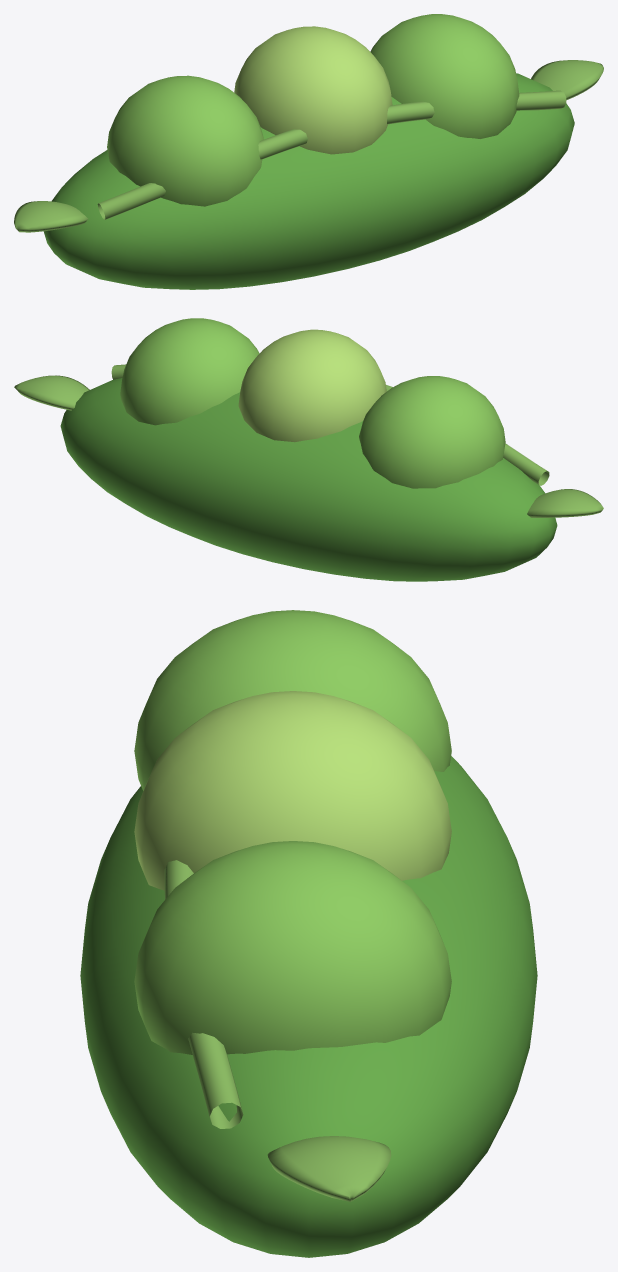
File: peas.glb
3 renders of one model, top to bottom at view 1: azimuth 30°, elevation 25°; view 2: azimuth 150°, elevation 25°; view 3: azimuth 270°, elevation 25°, orthographic. The views are drawn at different scales.
Parts seen in each view (by area): view 1: Pea pod | curved shell.001, Pea | round pea.005, Pea | round pea.004, Pea | round pea.003, Pea pod | seam.001, Pea pod | tip leaf.003, Pea pod | tip leaf.002; view 2: Pea pod | curved shell.001, Pea | round pea.005, Pea | round pea.004, Pea | round pea.003, Pea pod | tip leaf.003, Pea pod | tip leaf.002, Pea pod | seam.001; view 3: Pea pod | curved shell.001, Pea | round pea.003, Pea | round pea.004, Pea | round pea.005, Pea pod | tip leaf.003, Pea pod | seam.001.
Part boxes in pixels (bbox=[...]): Pea pod | curved shell.001: bbox=[43, 73, 574, 289]; Pea | round pea.005: bbox=[107, 75, 263, 206]; Pea | round pea.004: bbox=[234, 26, 392, 154]; Pea | round pea.003: bbox=[370, 14, 519, 138]; Pea pod | seam.001: bbox=[97, 90, 566, 219]; Pea pod | tip leaf.003: bbox=[531, 60, 603, 100]; Pea pod | tip leaf.002: bbox=[14, 201, 88, 232]; Pea pod | curved shell.001: bbox=[60, 378, 557, 581]; Pea | round pea.005: bbox=[359, 376, 505, 488]; Pea | round pea.004: bbox=[238, 329, 386, 442]; Pea | round pea.003: bbox=[120, 318, 259, 425]; Pea pod | tip leaf.003: bbox=[14, 375, 89, 410]; Pea pod | tip leaf.002: bbox=[527, 489, 603, 517]; Pea pod | seam.001: bbox=[111, 364, 549, 485]; Pea pod | curved shell.001: bbox=[80, 756, 537, 1257]; Pea | round pea.003: bbox=[134, 841, 451, 1054]; Pea | round pea.004: bbox=[134, 691, 451, 890]; Pea | round pea.005: bbox=[134, 610, 451, 790]; Pea pod | tip leaf.003: bbox=[267, 1136, 391, 1201]; Pea pod | seam.001: bbox=[164, 860, 243, 1128].
Size of the model in its own units: 2.07 by 0.74 by 0.72.
